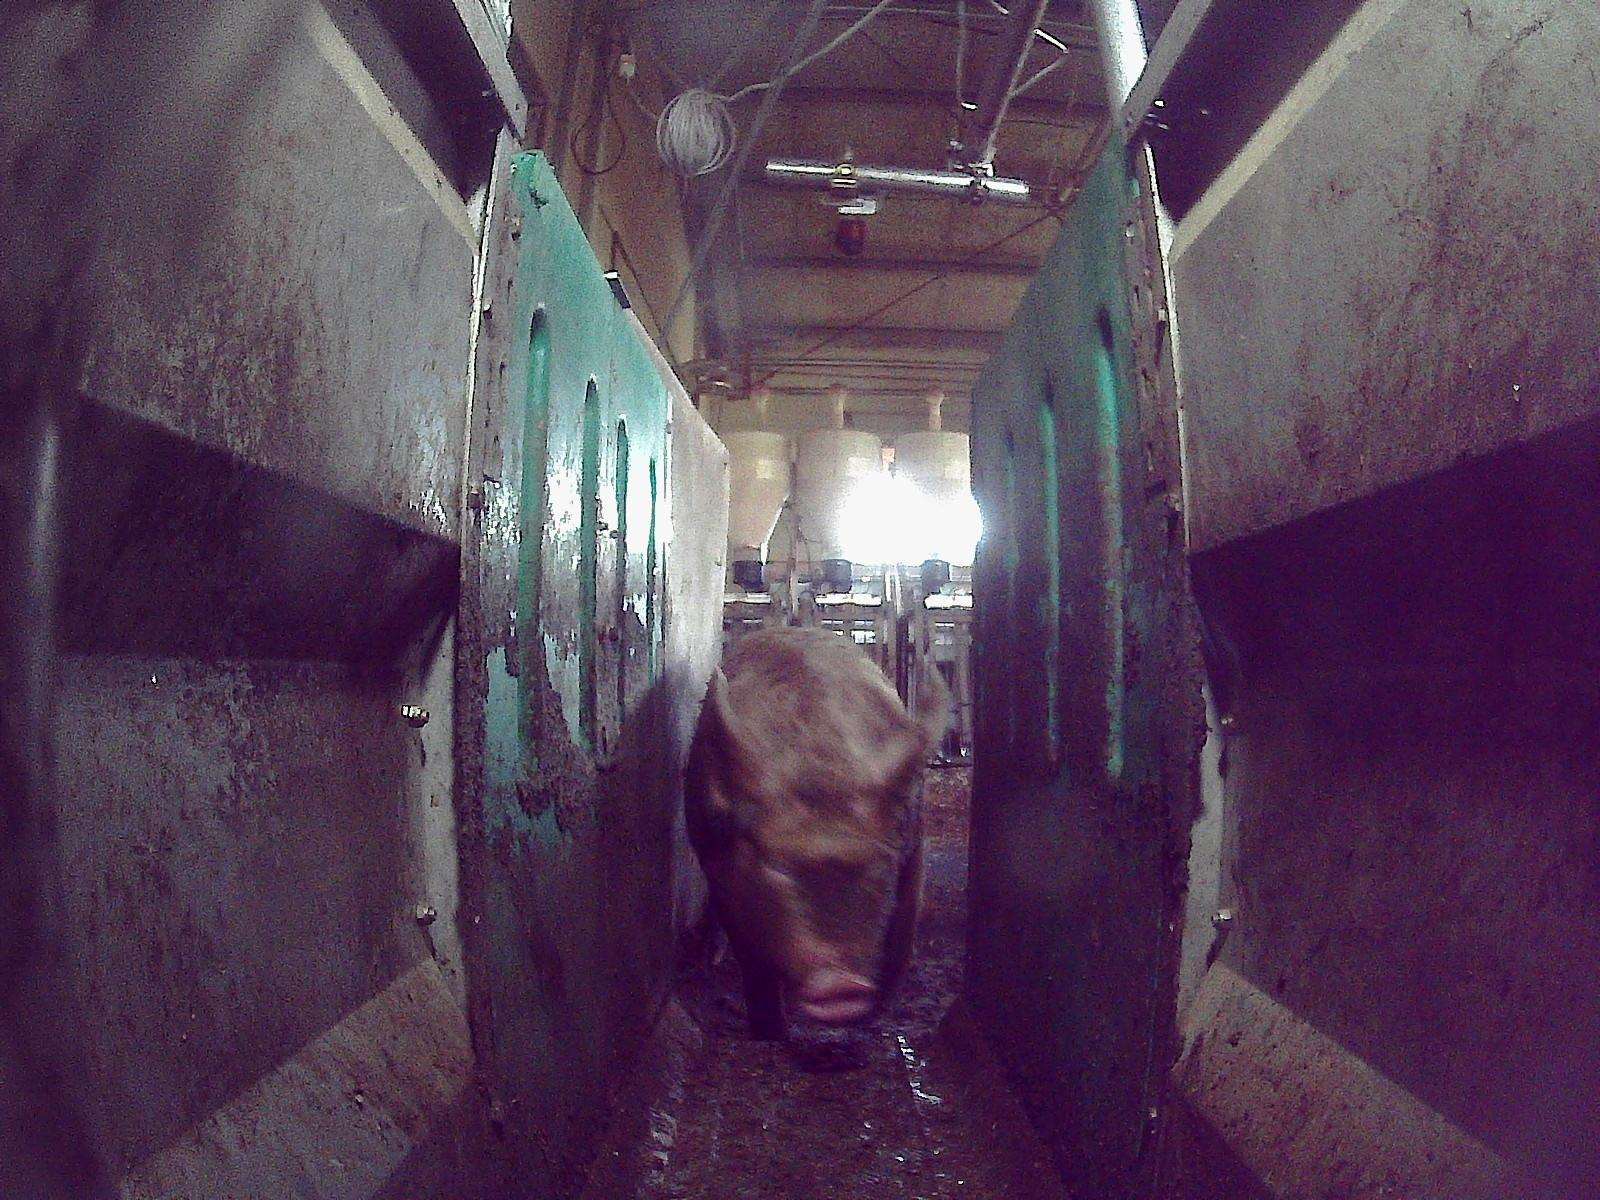Face: (728, 759, 894, 1023)
